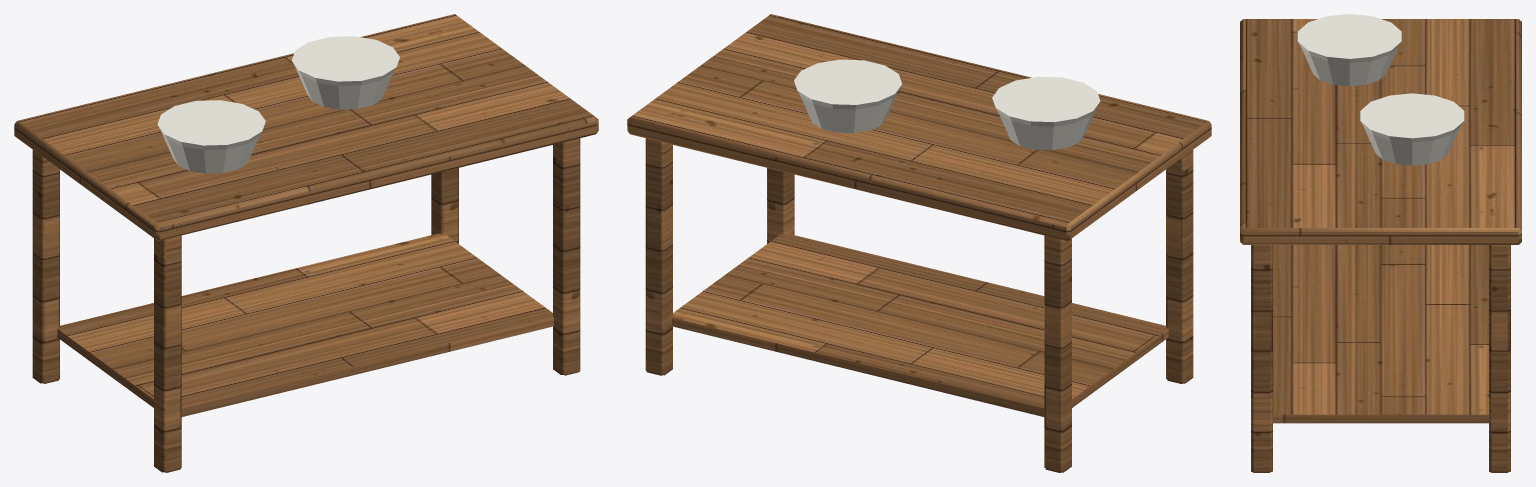
The model's file is work_table.glb.
3 renders of one model, left to right at view 1: azimuth 30°, elevation 25°; view 2: azimuth 150°, elevation 25°; view 3: azimuth 270°, elevation 25°, orthographic. The views are drawn at different scales.
Visible parts, largest first — view 1: work_table_oak, work_table_cream; view 2: work_table_oak, work_table_cream; view 3: work_table_oak, work_table_cream.
Boxes of the visible parts, x1=… form: work_table_oak: x1=14, y1=14, x2=598, y2=472; work_table_cream: x1=157, y1=36, x2=399, y2=173; work_table_oak: x1=627, y1=14, x2=1211, y2=472; work_table_cream: x1=794, y1=59, x2=1100, y2=150; work_table_oak: x1=1240, y1=19, x2=1521, y2=472; work_table_cream: x1=1297, y1=14, x2=1464, y2=165.
Bounding box in the file's own units: 1.6 × 1 × 0.9.
2 materials, 1 textured.
